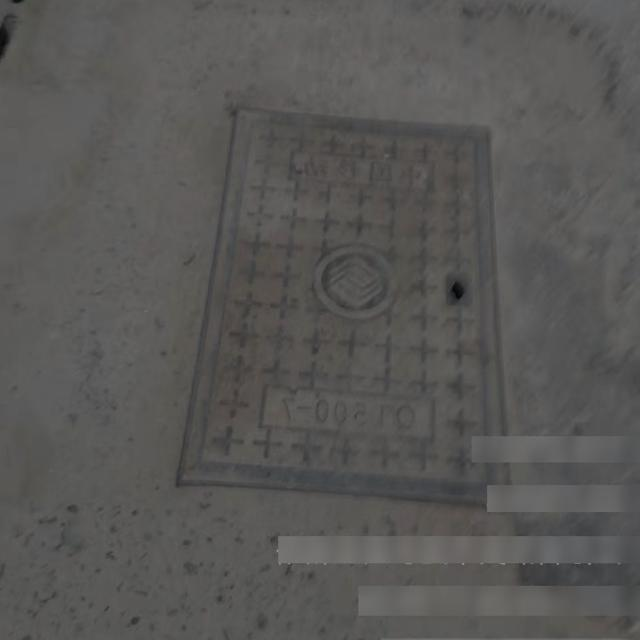good: (178, 104, 538, 504)
